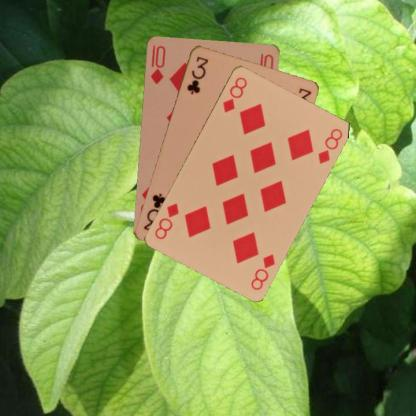10d: (148, 42, 166, 86)
3c: (184, 54, 209, 95)
8d: (219, 73, 249, 114), (248, 251, 276, 291)
